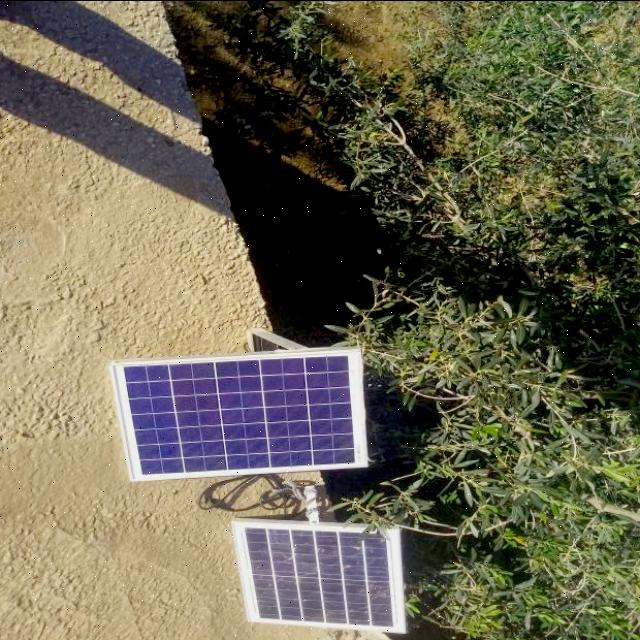Normal Solar Panel: (109, 348, 368, 481)
